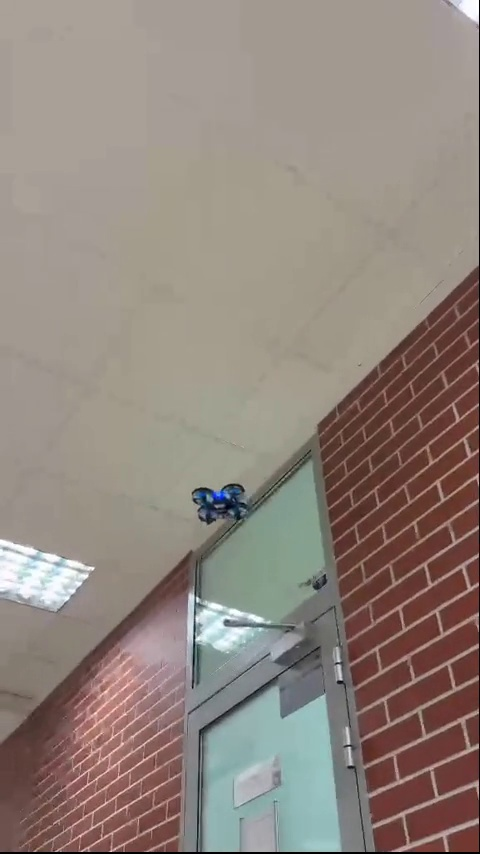drone: (183, 479, 252, 526)
